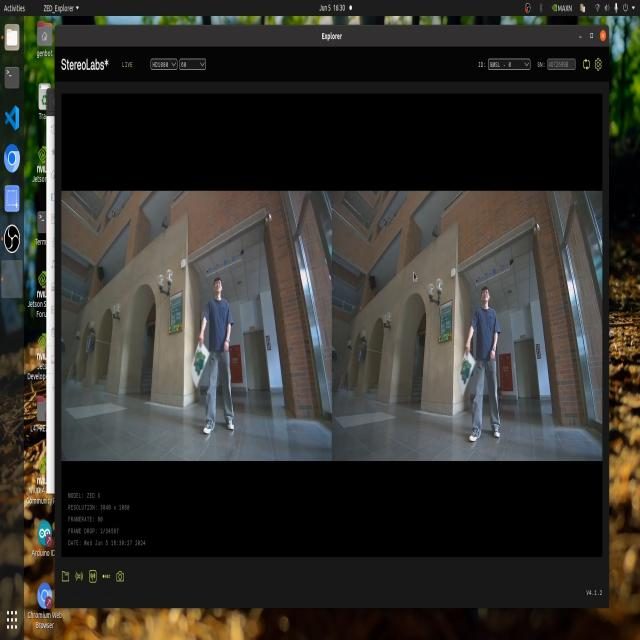green: (187, 344, 204, 373), (460, 352, 470, 386)
